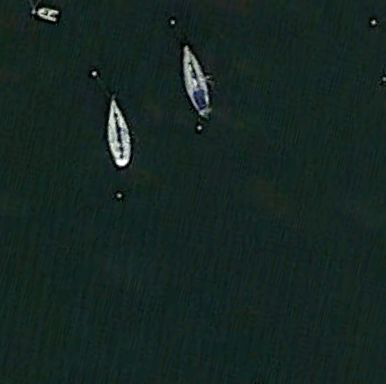boat: (181, 44, 214, 121), (106, 97, 135, 170)
